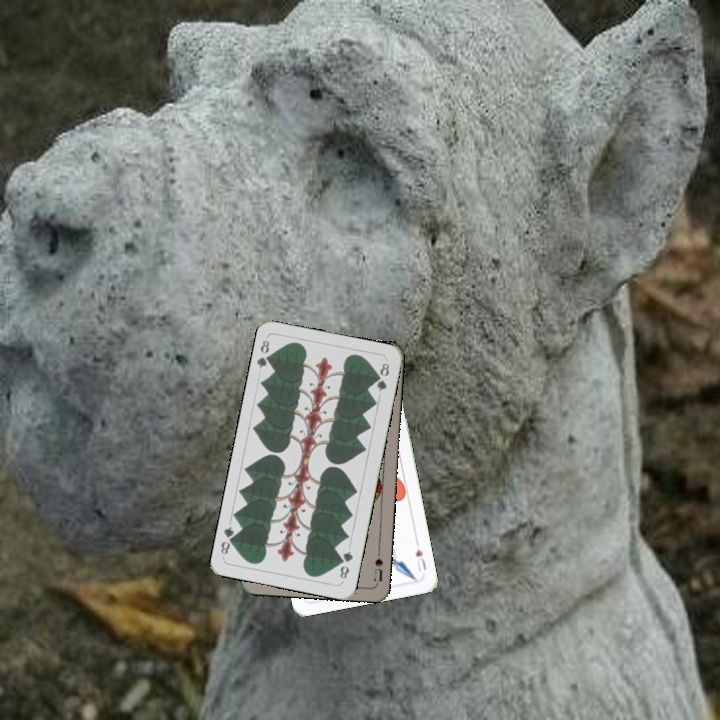G8: (253, 336, 276, 371), (336, 547, 356, 582)
HU: (412, 537, 429, 574)
SU: (370, 545, 386, 584)
